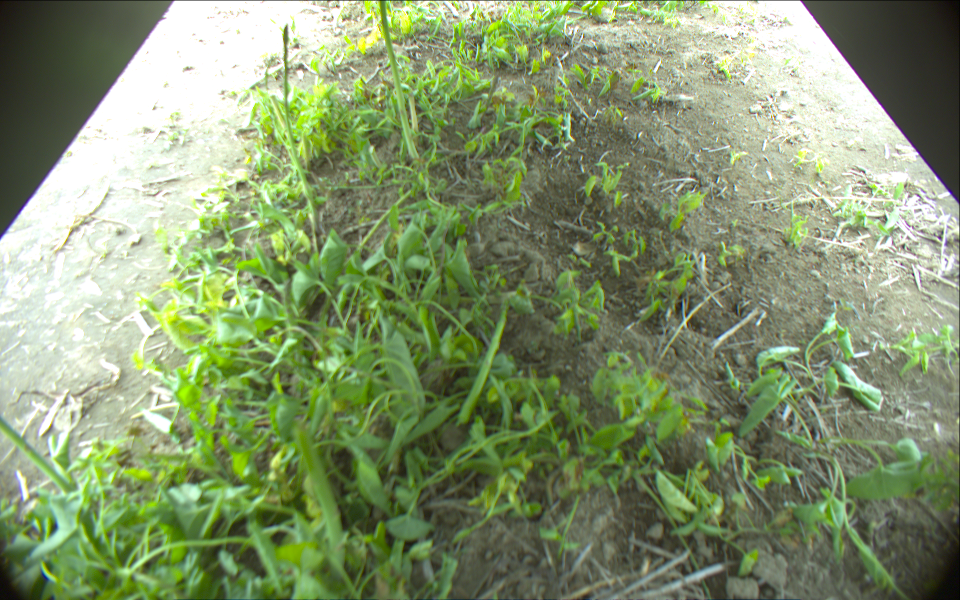aspa: (291, 420, 348, 571), (282, 26, 323, 234), (452, 303, 512, 427), (377, 1, 420, 159), (1, 412, 75, 494)
